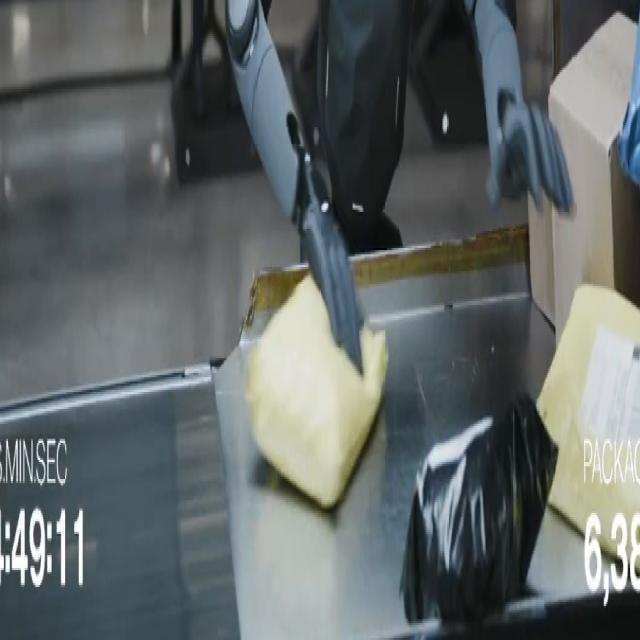package: (401, 397, 557, 623), (246, 276, 388, 508), (550, 13, 639, 343), (537, 287, 639, 574), (528, 195, 554, 324), (619, 32, 639, 188)
